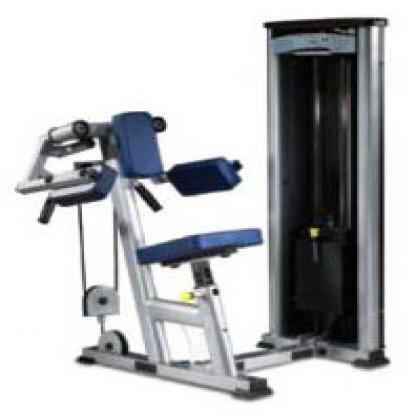lateral raises machine: (16, 110, 394, 400)
